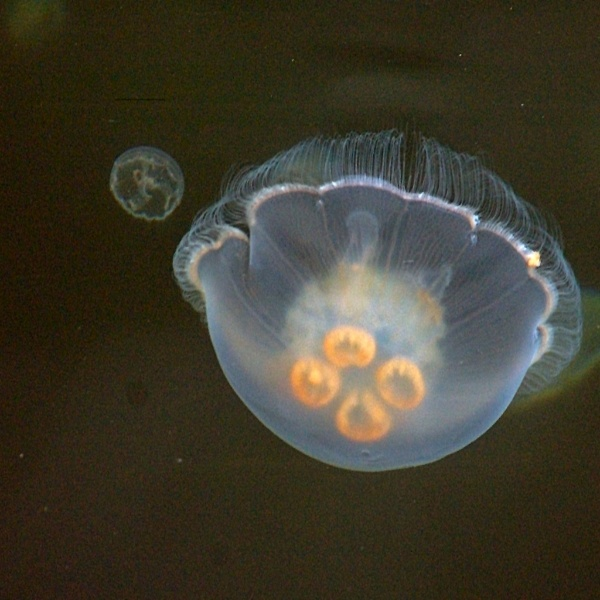Jellyfish: (168, 142, 577, 459), (111, 144, 185, 223)
